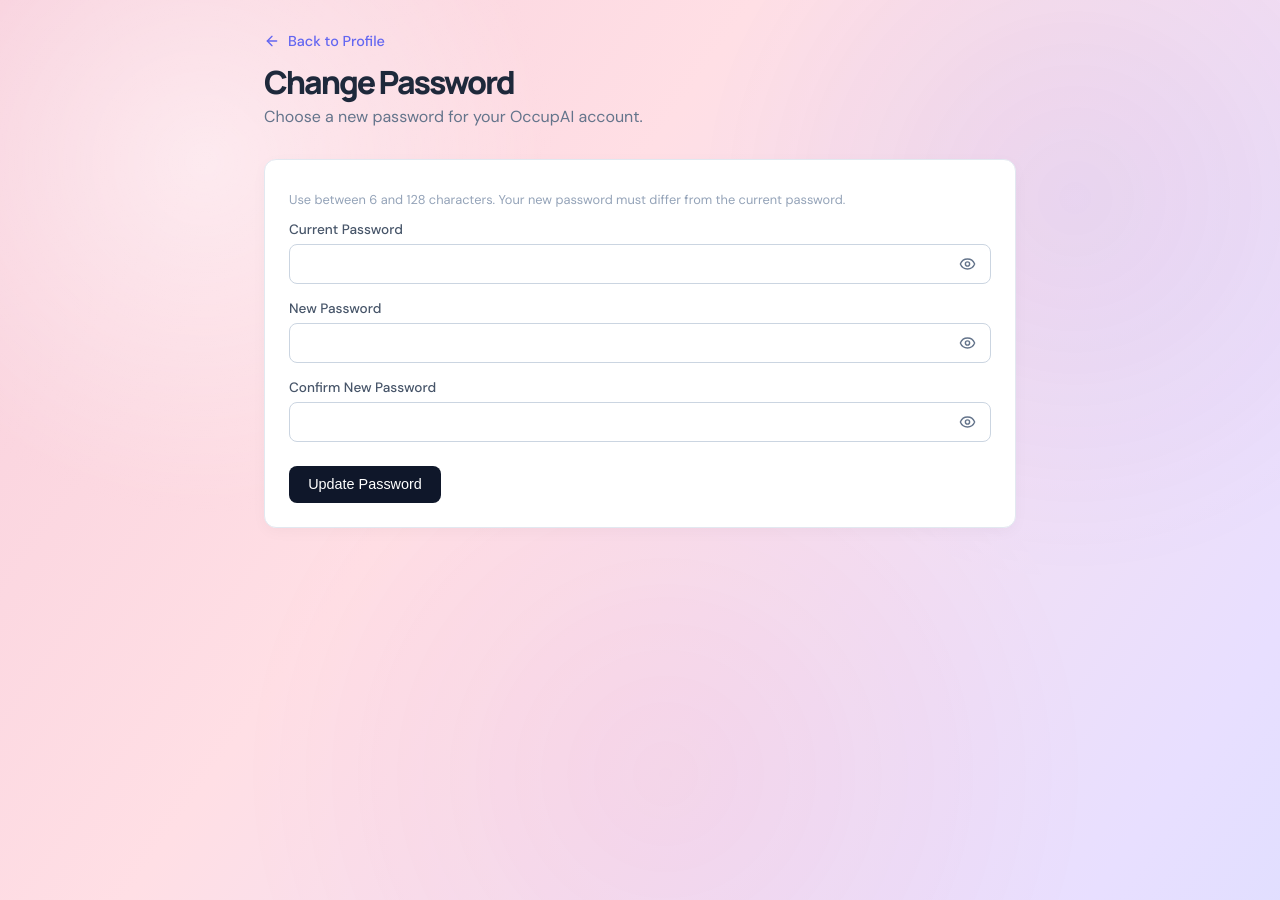
Test: Dedicated password page › presents backend errors safely
The image size is (1280, 900).
Type "WrongPass" into the password field labelled "Current Password" at x=640, y=264, box 289,244 -> 991,284
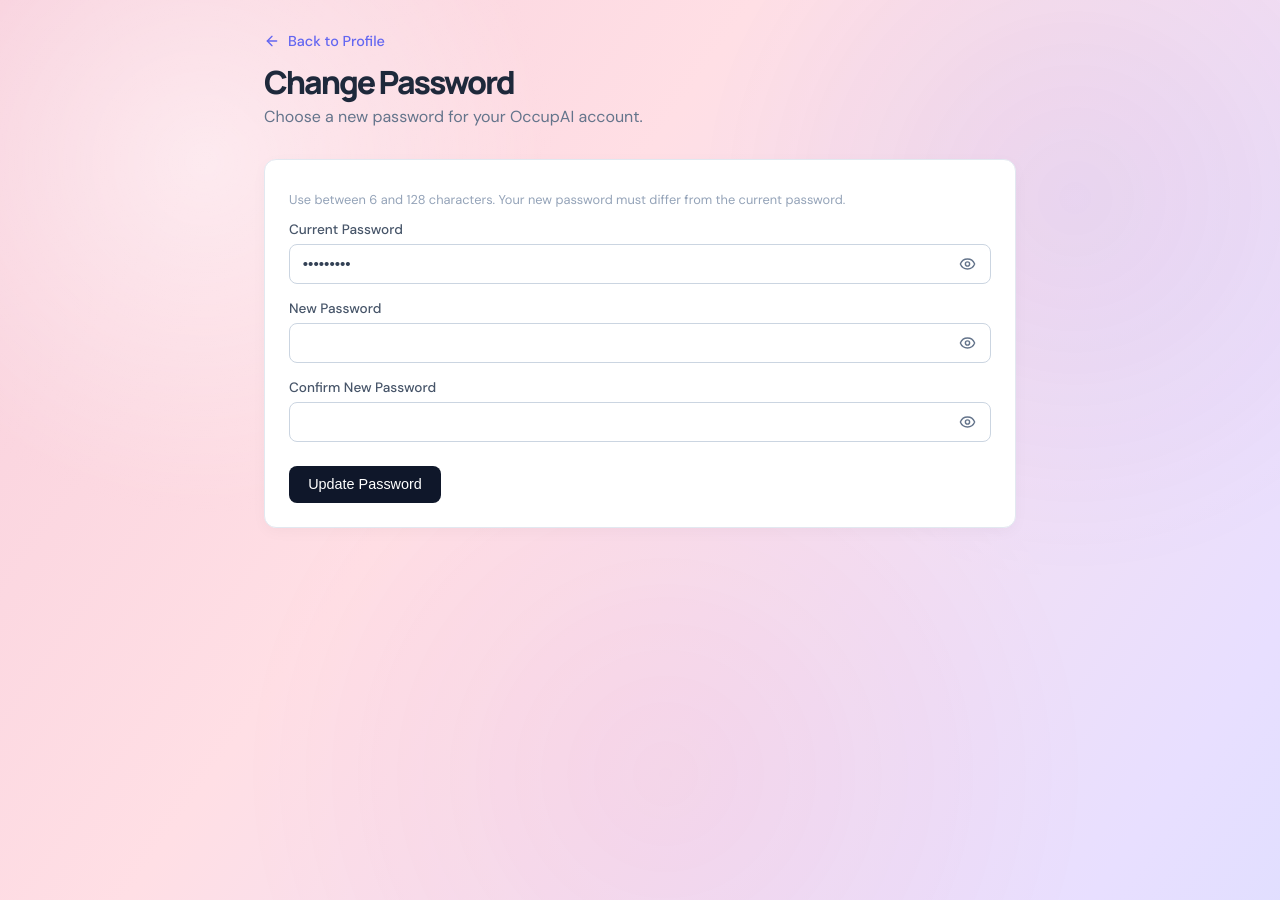
Type "NewPassword1!" into the password field labelled "New Password" at x=640, y=343, box 289,323 -> 991,363
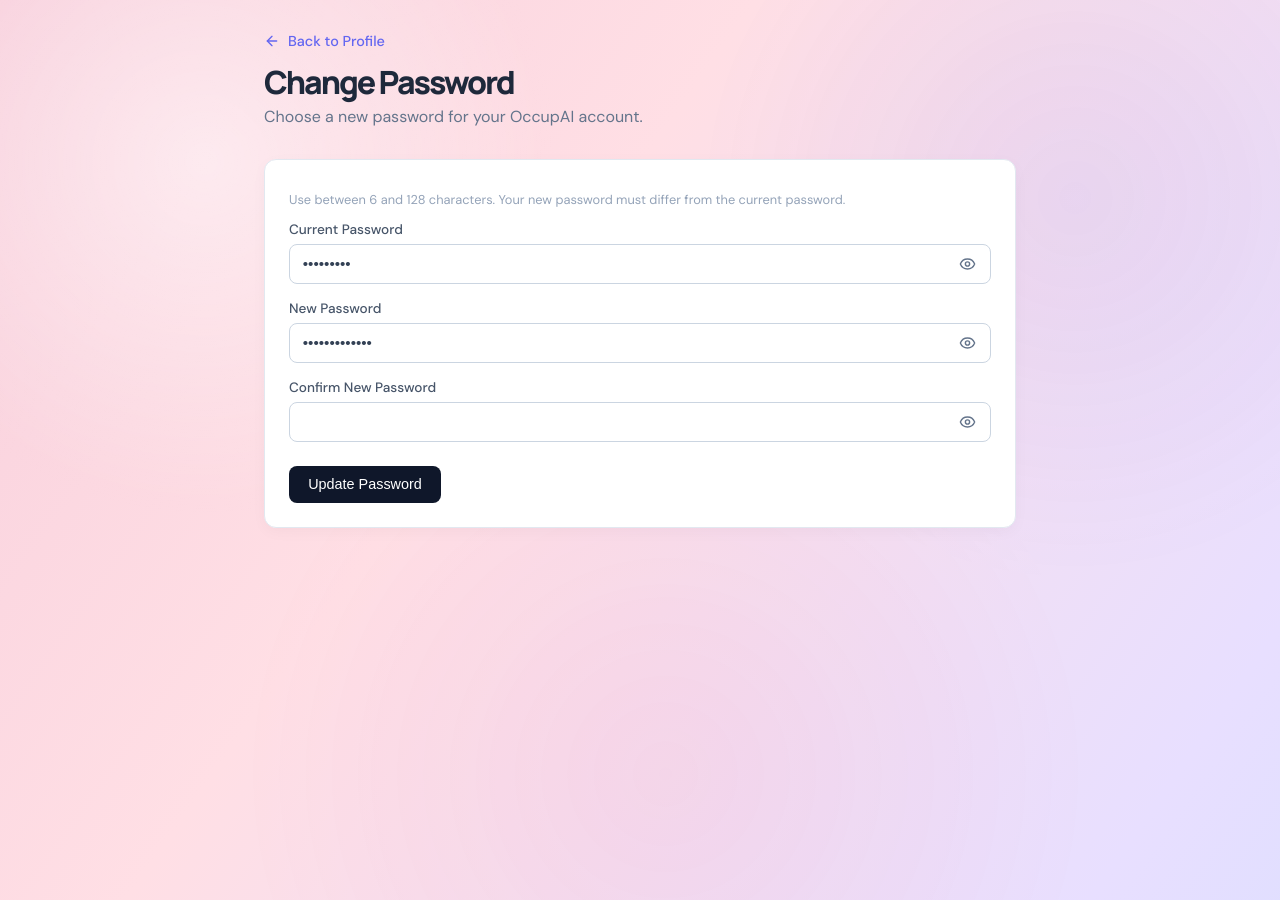
Type "NewPassword1!" into the password field labelled "Confirm New Password" at x=640, y=422, box 289,402 -> 991,442
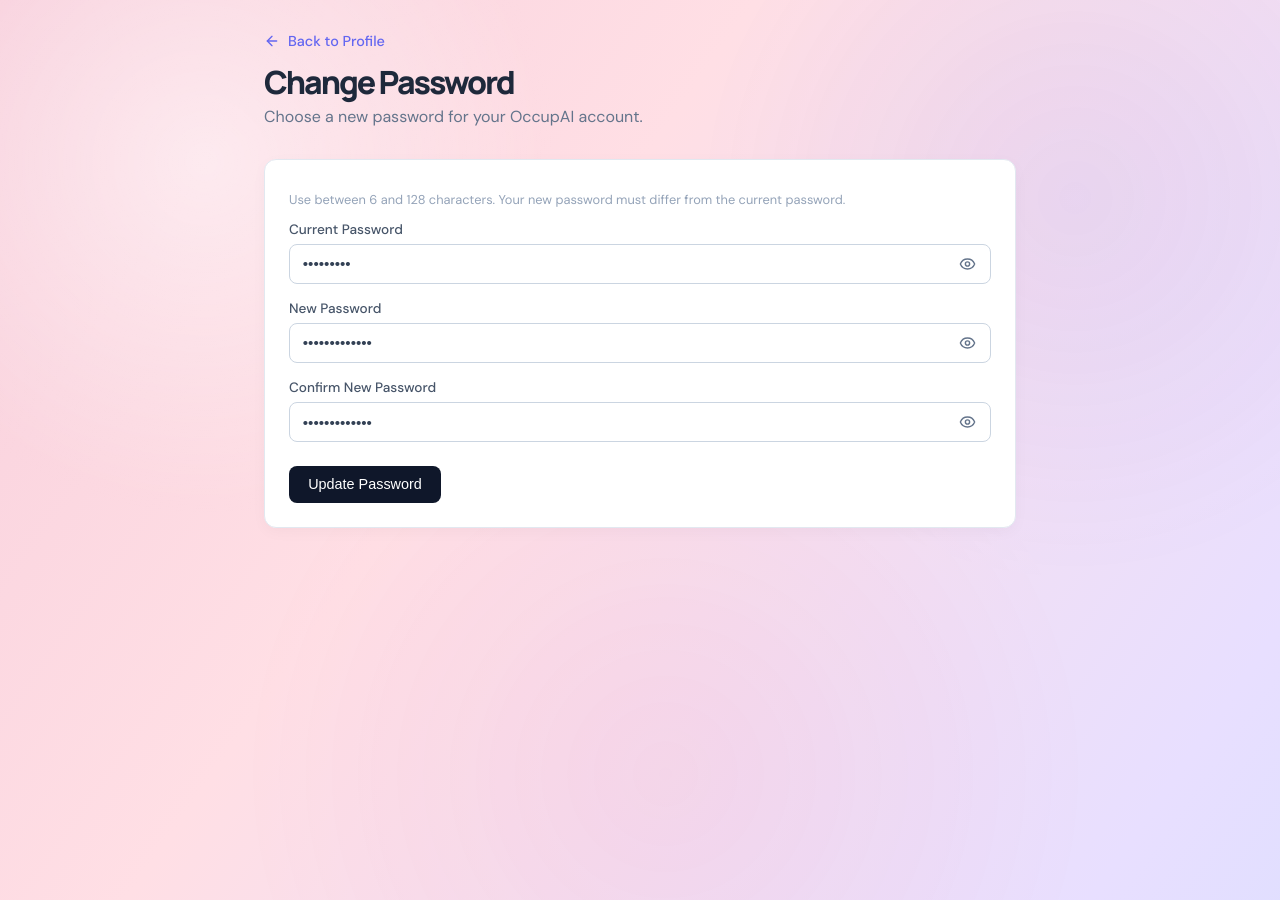
Click the button "Update Password" at x=365, y=484, box 289,466 -> 441,503
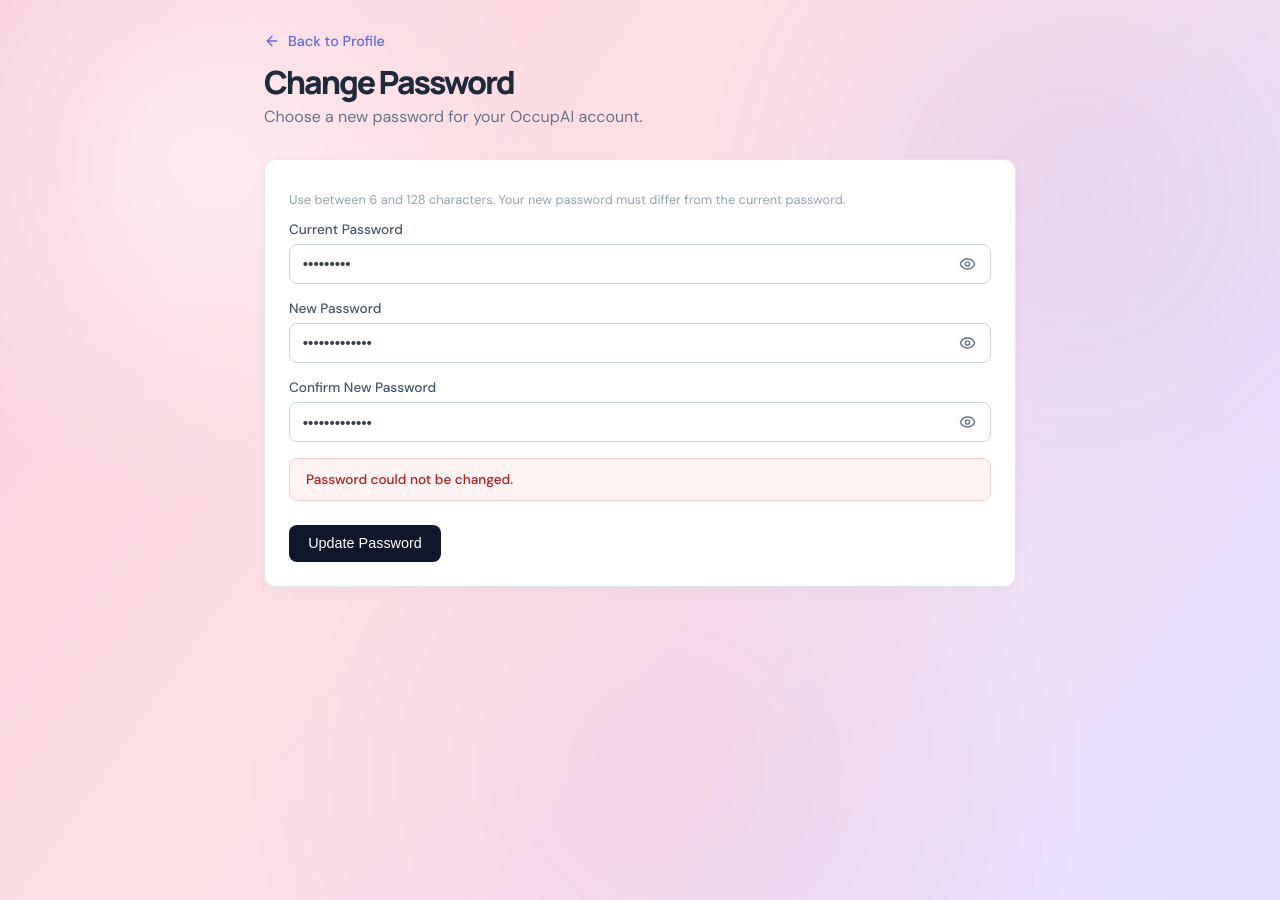
Result: the message shows "Password could not be changed" at 306,471 -> 513,488
